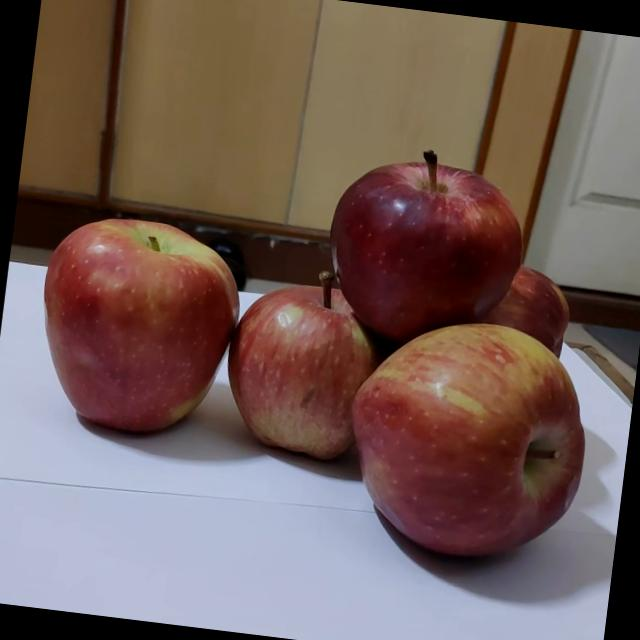apple: (302, 348, 578, 627), (0, 209, 251, 491), (282, 155, 524, 400), (184, 290, 386, 510), (379, 277, 588, 439)
